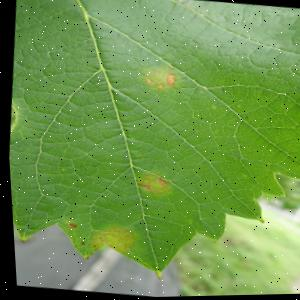Folha: (0, 0, 300, 296)
Fungo: (81, 224, 132, 256), (130, 170, 168, 198), (136, 69, 175, 91), (162, 73, 174, 86), (152, 177, 163, 185), (63, 222, 73, 229), (143, 78, 151, 84), (154, 84, 162, 89)
